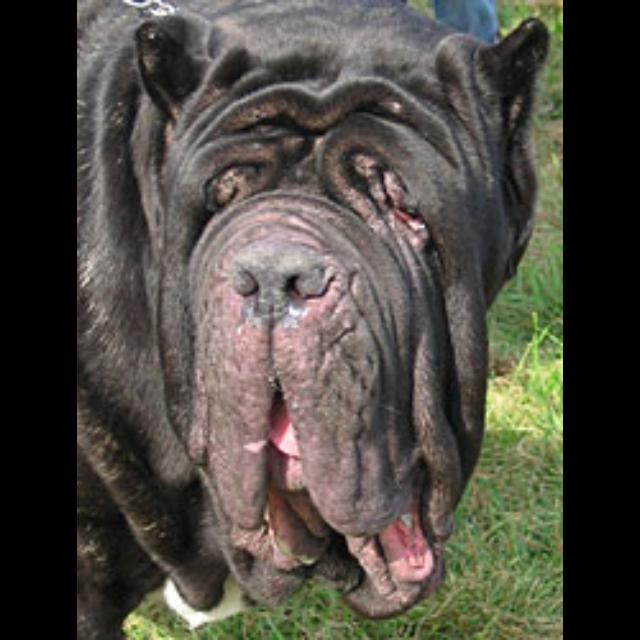mastino_napoletano: (79, 2, 552, 639)
